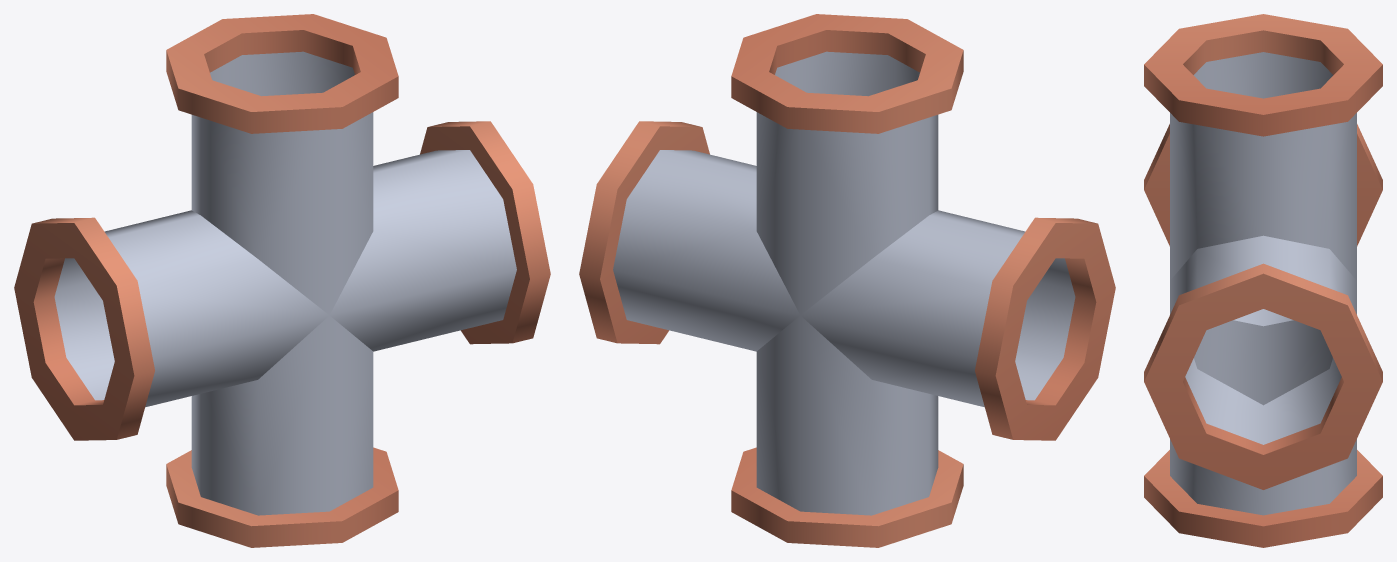
The model's file is pipe-glass-large-cross.obj.
3 views of the same model, side by side, from view 1: azimuth 30°, elevation 25°; view 2: azimuth 150°, elevation 25°; view 3: azimuth 270°, elevation 25° (orthographic).
Parts seen in each view (by area): view 1: pipe-glass-large-cross; view 2: pipe-glass-large-cross; view 3: pipe-glass-large-cross.
Boxes of the visible parts, x1,y1,x2,y2 form: pipe-glass-large-cross: (14, 14, 550, 547); pipe-glass-large-cross: (579, 14, 1115, 547); pipe-glass-large-cross: (1144, 14, 1382, 547).
Size of the model in its own units: 2 by 2 by 1.
